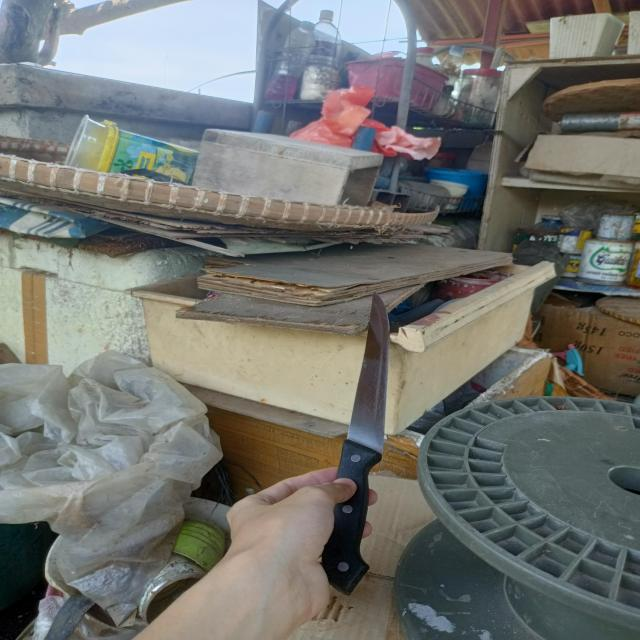knife: (316, 292, 390, 593)
